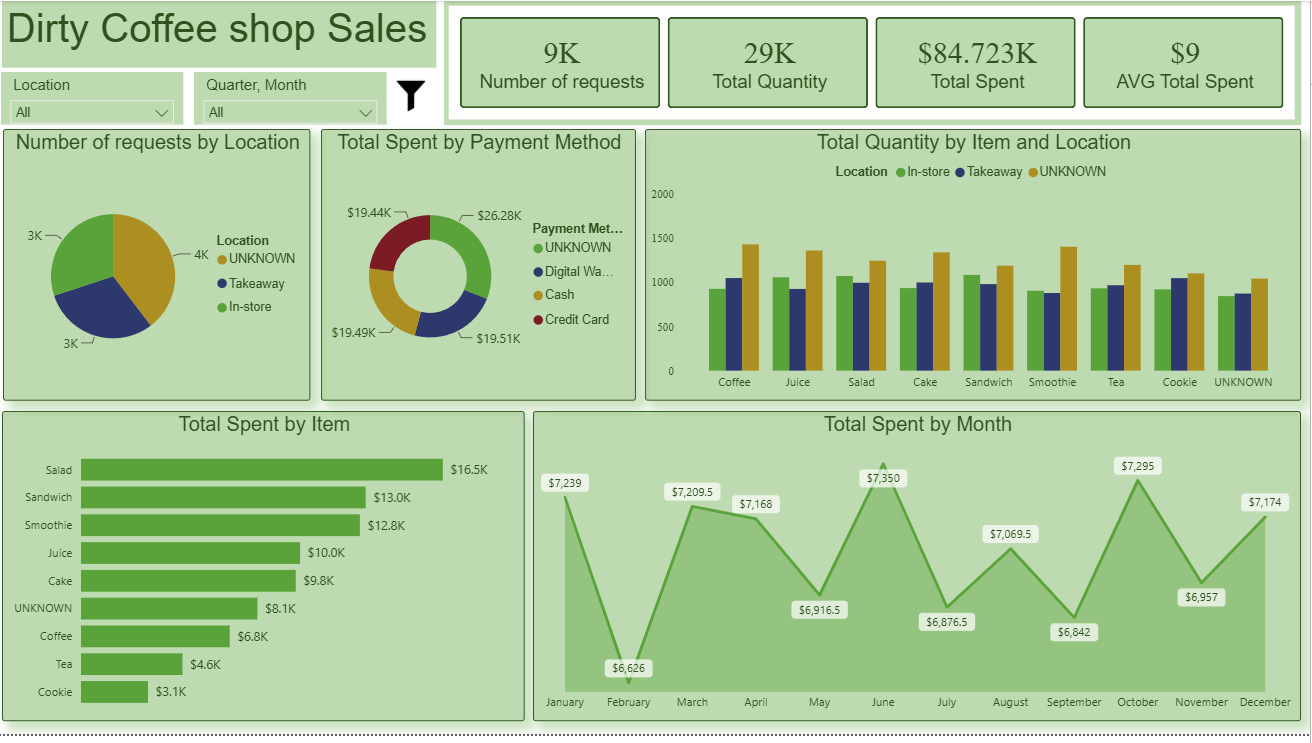

This screenshot's page, from the dashboard's own definition file:
{"tool":"powerbi","page":{"name":"Page 1","canvas":[1400,780],"ordinal":0},"visuals":[{"type":"barChart","fields":{"Category":["dirty_cafe_sales__1.Item"],"Y":["Table.Total Revenue"]},"box":[8.5,436.2,556.4,329.8],"z":0},{"type":"lineStackedColumnComboChart","fields":{"Category":["dirty_cafe_sales__1.Transaction Date.Variation.Date Hierarchy.Month"],"Y2":["Table.Total Revenue"]},"box":[573.4,436.2,817,329.8],"z":1000},{"type":"clusteredColumnChart","title":"Total Quantity  by Item and Location","fields":{"Category":["dirty_cafe_sales__1.Item"],"Series":["dirty_cafe_sales__1.Location"],"Y":["Sum(dirty_cafe_sales__1.Quantity 1)"]},"box":[692.6,136.2,697.9,289.4],"z":2000},{"type":"donutChart","fields":{"Category":["dirty_cafe_sales__1.Payment Method"],"Y":["Table.Total Revenue"]},"box":[347.9,136.2,335.1,289.4],"z":3000},{"type":"pieChart","fields":{"Category":["dirty_cafe_sales__1.Location"],"Y":["Table.Number of requests"]},"box":[9.2,136.4,327.2,289.3],"z":4000},{"type":"cardVisual","fields":{"Data":["Table.Number of requests","Table.Total Quantity","Table.Total Spent","Table.AVG Total Spent"]},"box":[478.7,0,911.7,131.9],"z":5000},{"type":"textbox","box":[8.2,0,461.6,70.8],"z":6000},{"type":"slicer","fields":{"Values":["dirty_cafe_sales__1.Location"]},"box":[7.8,75.9,193.6,56.4],"z":7000},{"type":"slicer","fields":{"Values":["dirty_cafe_sales__1.Transaction Date.Variation.Date Hierarchy.Quarter","dirty_cafe_sales__1.Transaction Date.Variation.Date Hierarchy.Month"]},"box":[213,75.9,205.2,56.4],"z":8000},{"type":"image","box":[418.5,75.9,51.3,51.3],"z":9000}]}

Visuals, with their boxes in screenshot pixels (x1, y1, x2, y2), scaled from the page's 1400x780 canvas onto the 1312x743 screenshot:
barChart - dirty_cafe_sales__1.Item x Table.Total Revenue: (left=8, top=416, right=529, bottom=730)
lineStackedColumnComboChart - dirty_cafe_sales__1.Transaction Date.Variation.Date Hierarchy.Month x Table.Total Revenue: (left=537, top=416, right=1303, bottom=730)
"Total Quantity  by Item and Location" clusteredColumnChart: (left=649, top=130, right=1303, bottom=405)
donutChart - dirty_cafe_sales__1.Payment Method x Table.Total Revenue: (left=326, top=130, right=640, bottom=405)
pieChart - dirty_cafe_sales__1.Location x Table.Number of requests: (left=9, top=130, right=315, bottom=406)
cardVisual - Table.Number of requests x Table.Total Quantity: (left=449, top=0, right=1303, bottom=126)
textbox: (left=8, top=0, right=440, bottom=67)
slicer - dirty_cafe_sales__1.Location: (left=7, top=72, right=189, bottom=126)
slicer - dirty_cafe_sales__1.Transaction Date.Variation.Date Hierarchy.Quarter x dirty_cafe_sales__1.Transaction Date.Variation.Date Hierarchy.Month: (left=200, top=72, right=392, bottom=126)
image: (left=392, top=72, right=440, bottom=121)
